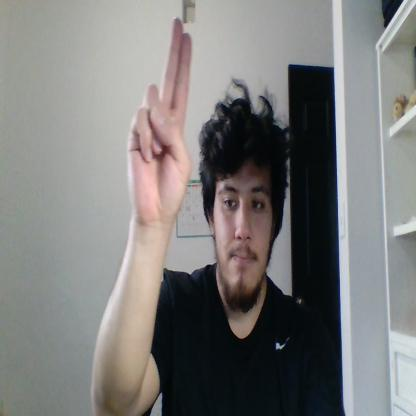U: (127, 17, 192, 225)
